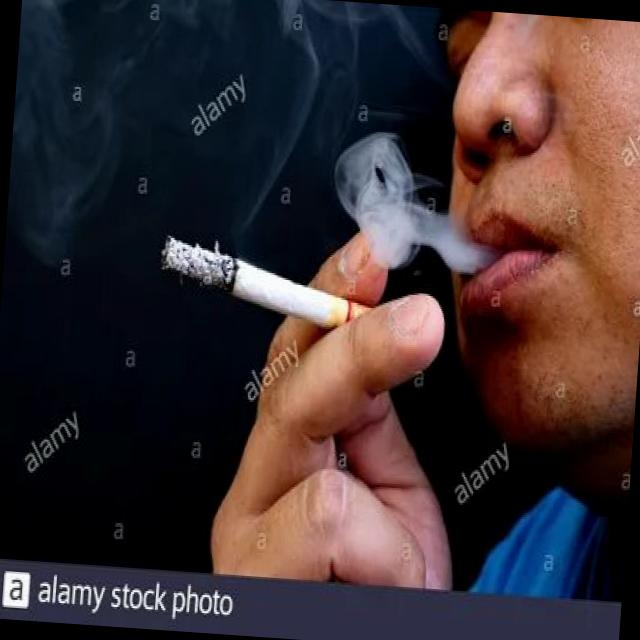cigarette: (148, 222, 393, 342)
